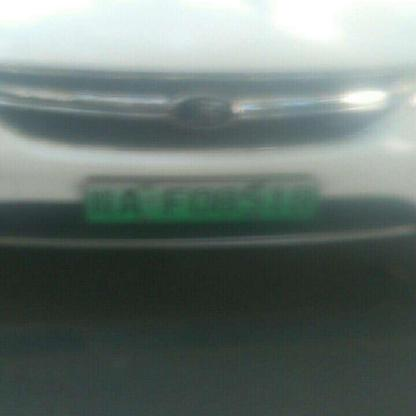lp: (80, 176, 316, 223)
